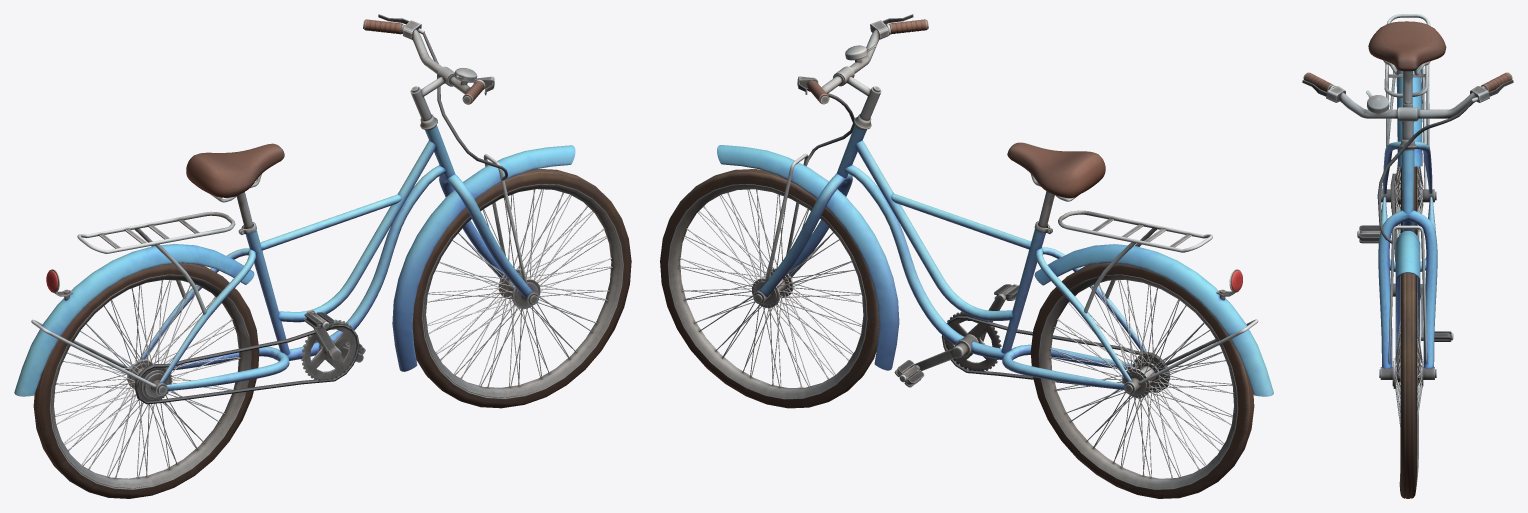
File: SM_Bike.fbx
3 renders of one model, left to right at view 1: azimuth 30°, elevation 25°; view 2: azimuth 150°, elevation 25°; view 3: azimuth 270°, elevation 25°, orthographic. The views are drawn at different scales.
Visible parts, largest first — view 1: SM_Bike_LOD0; view 2: SM_Bike_LOD0; view 3: SM_Bike_LOD0.
Boxes of the visible parts, x1,y1,x2,y2 form: SM_Bike_LOD0: (14,14,631,498); SM_Bike_LOD0: (660,14,1273,498); SM_Bike_LOD0: (1302,14,1513,498).
Size of the model in its own units: 285 by 86.69 by 165.
Materials: 1 (1 with a texture image).
